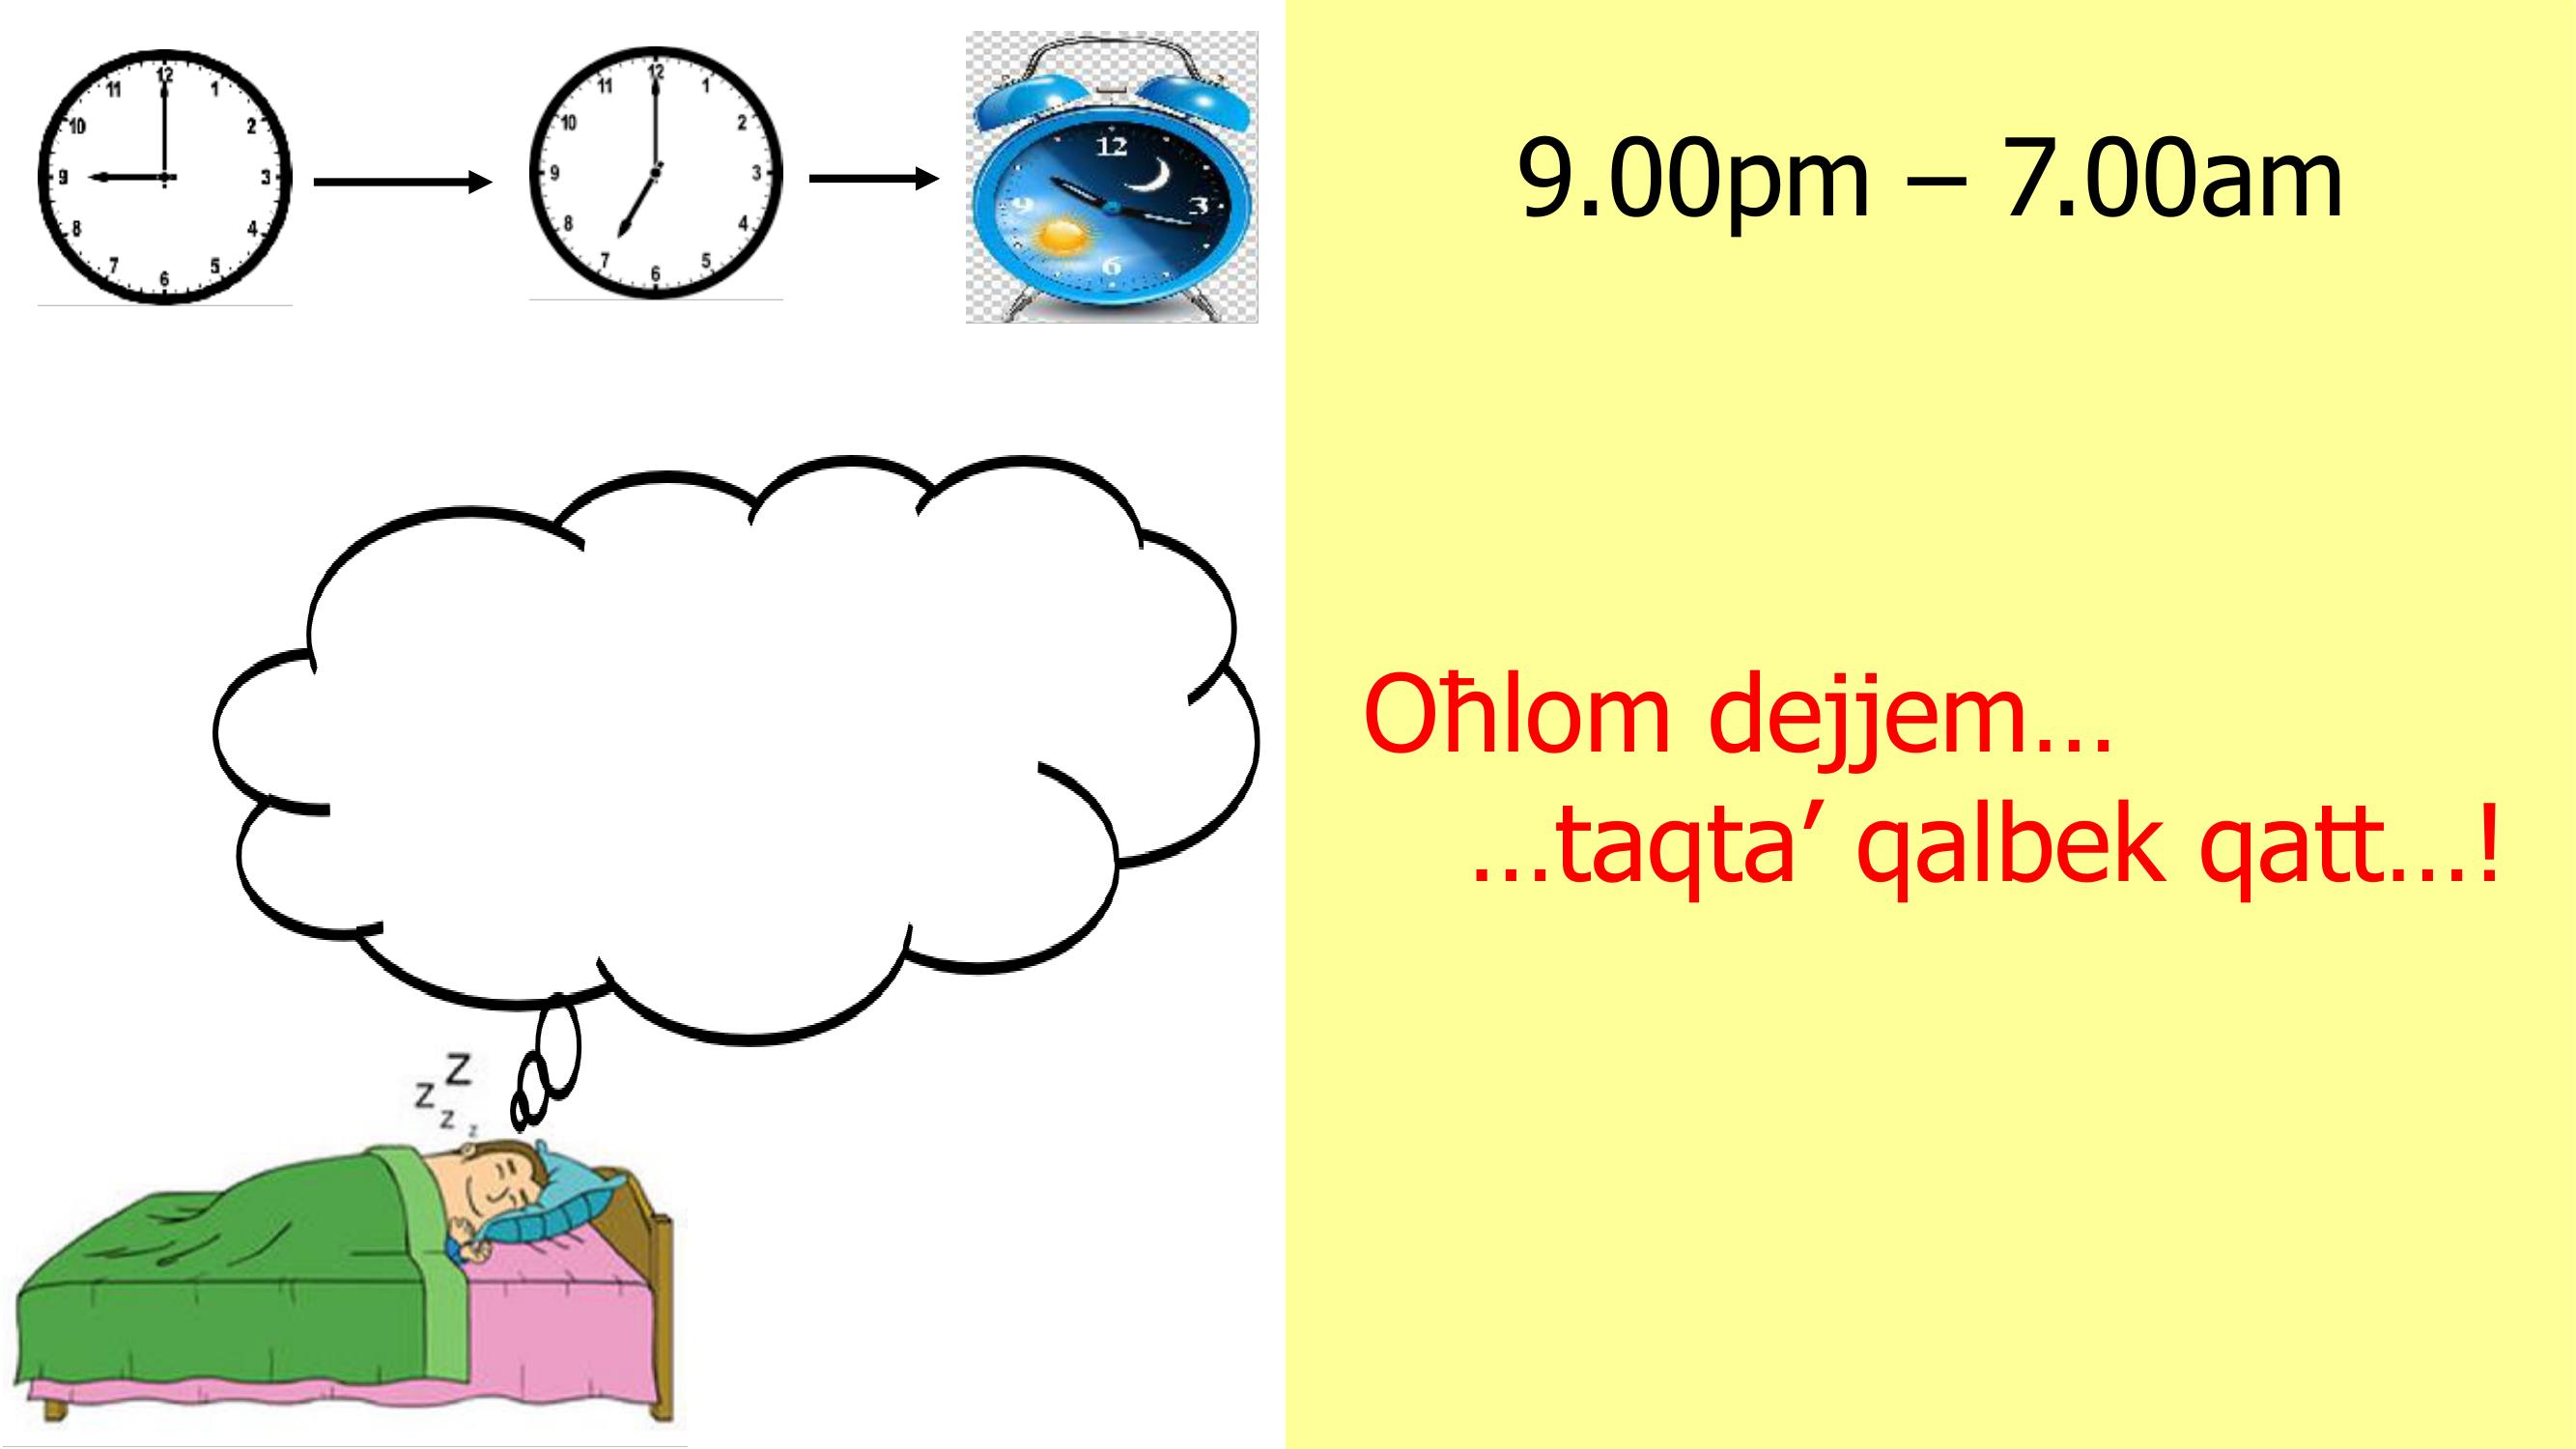text: (1302, 626, 2558, 952)
